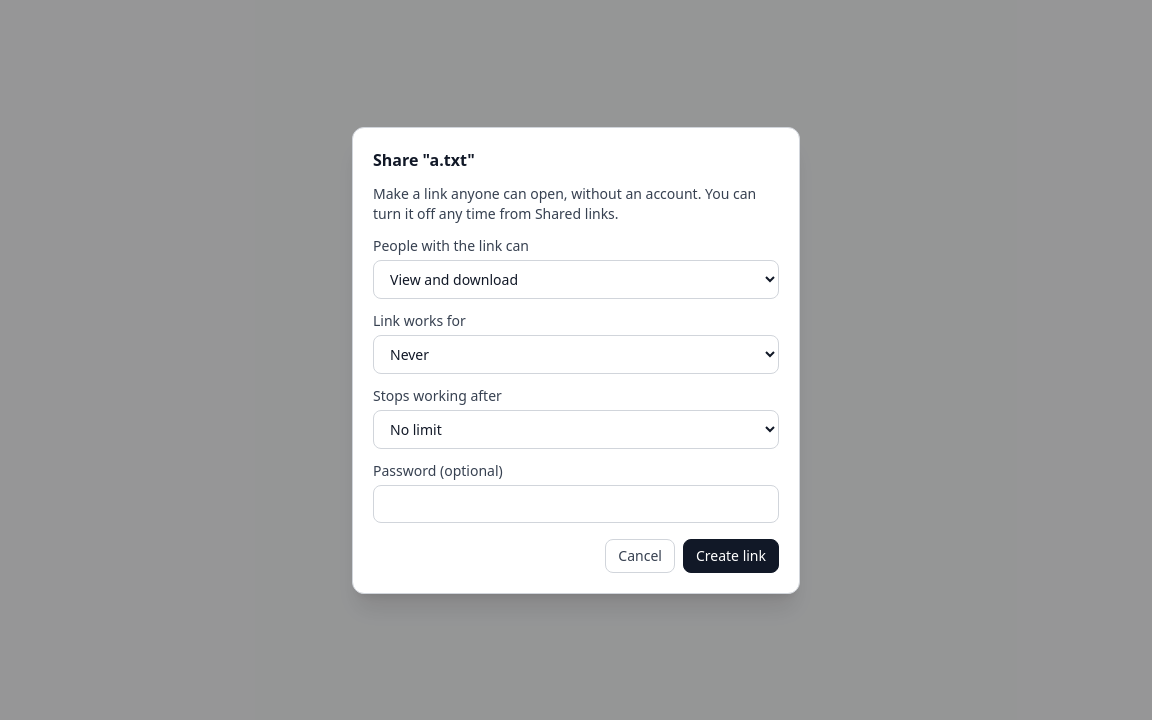
Test: ShareDialog › says what went wrong when the server refuses
The image size is (1152, 720).
Click the button "Create link": {"x": 731, "y": 556} [683,538,779,572]
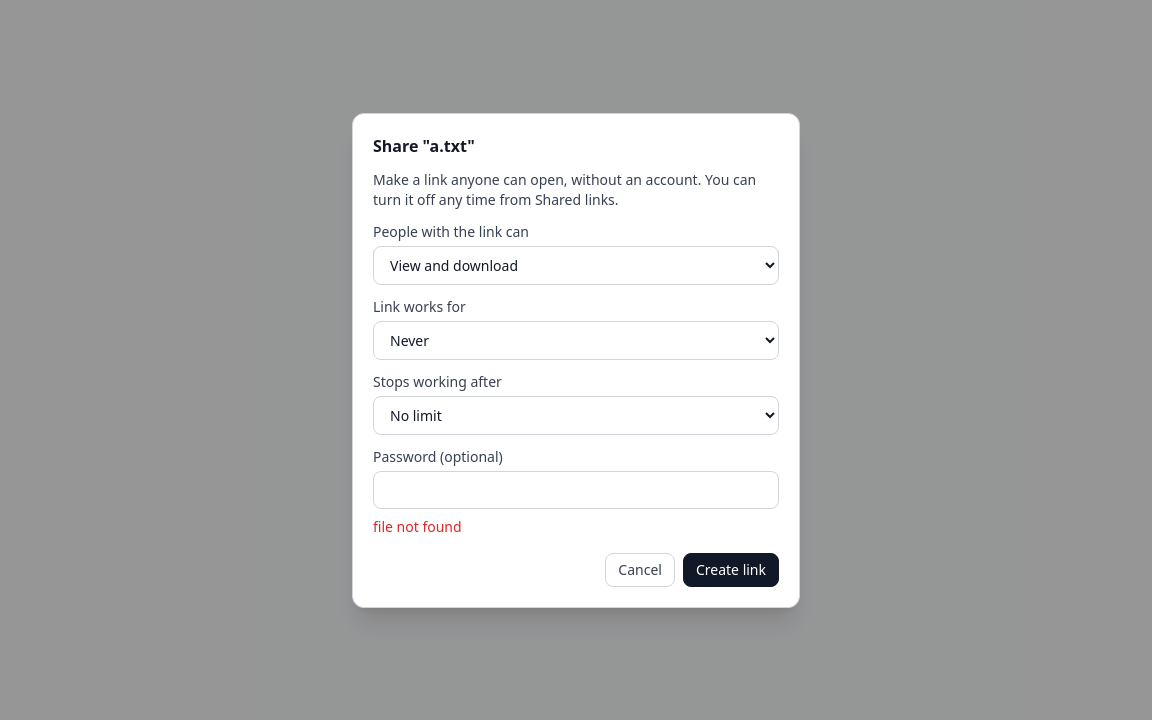
Result: the message reads "file not found" at [373,516,462,536]
